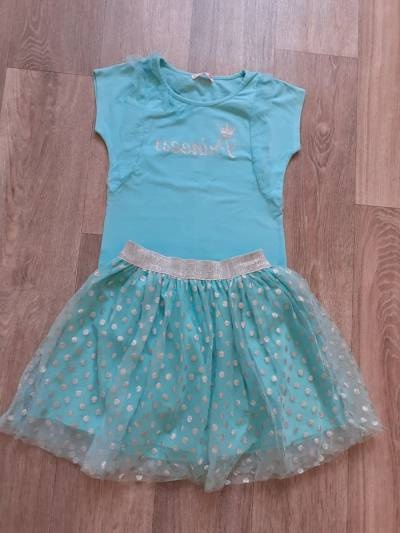Dress: (10, 66, 376, 497)
